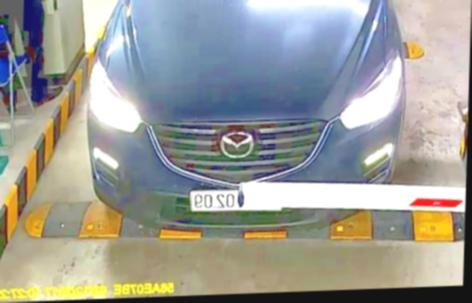License_Plate: (186, 177, 285, 218)
